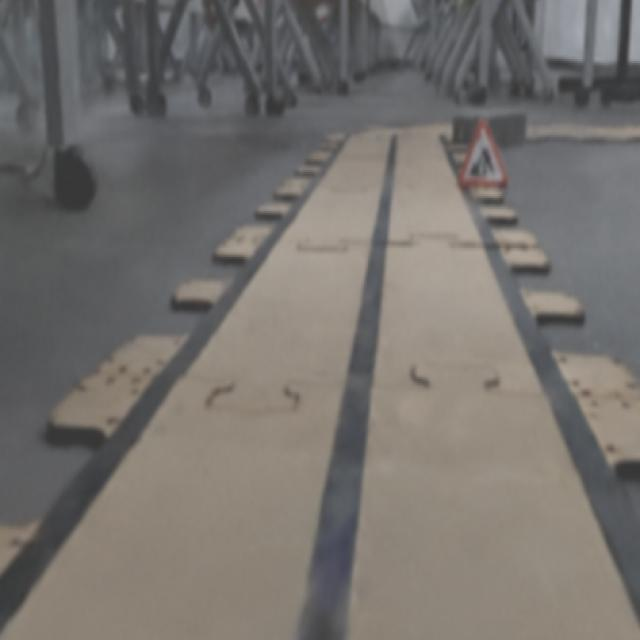WORKERS: (459, 120, 506, 185)
